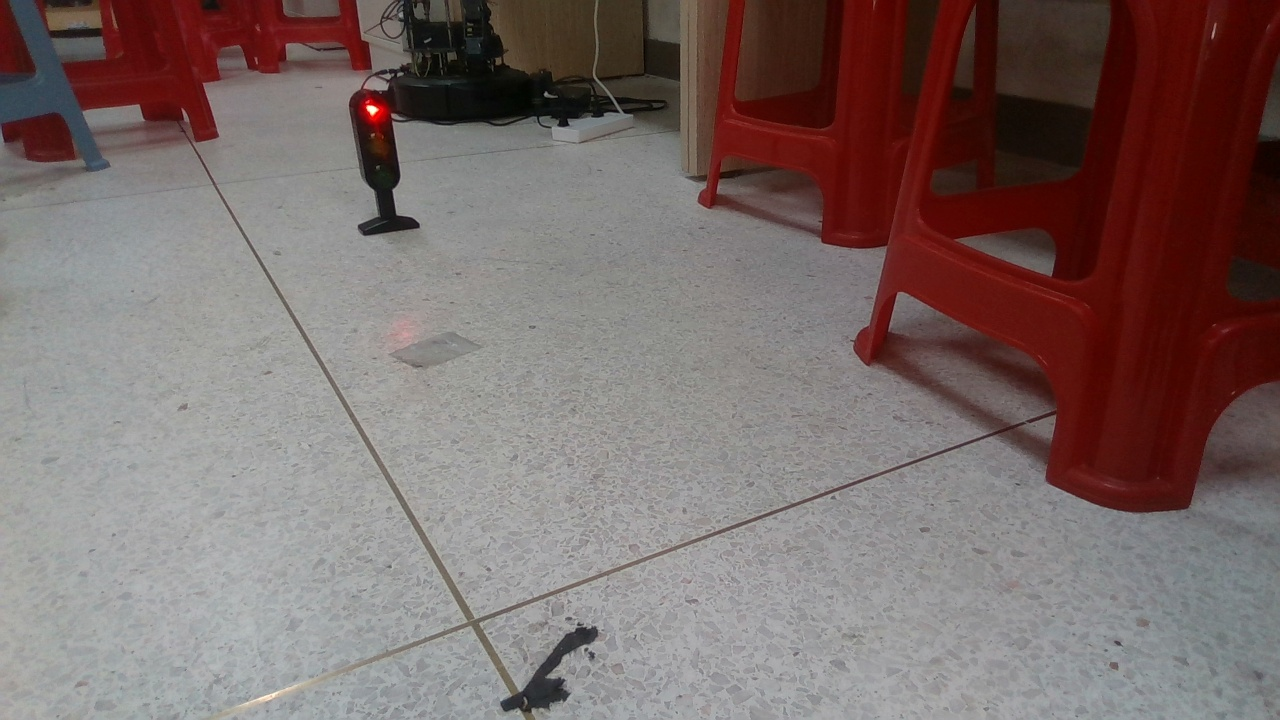Red traffic light: (339, 87, 423, 241)
